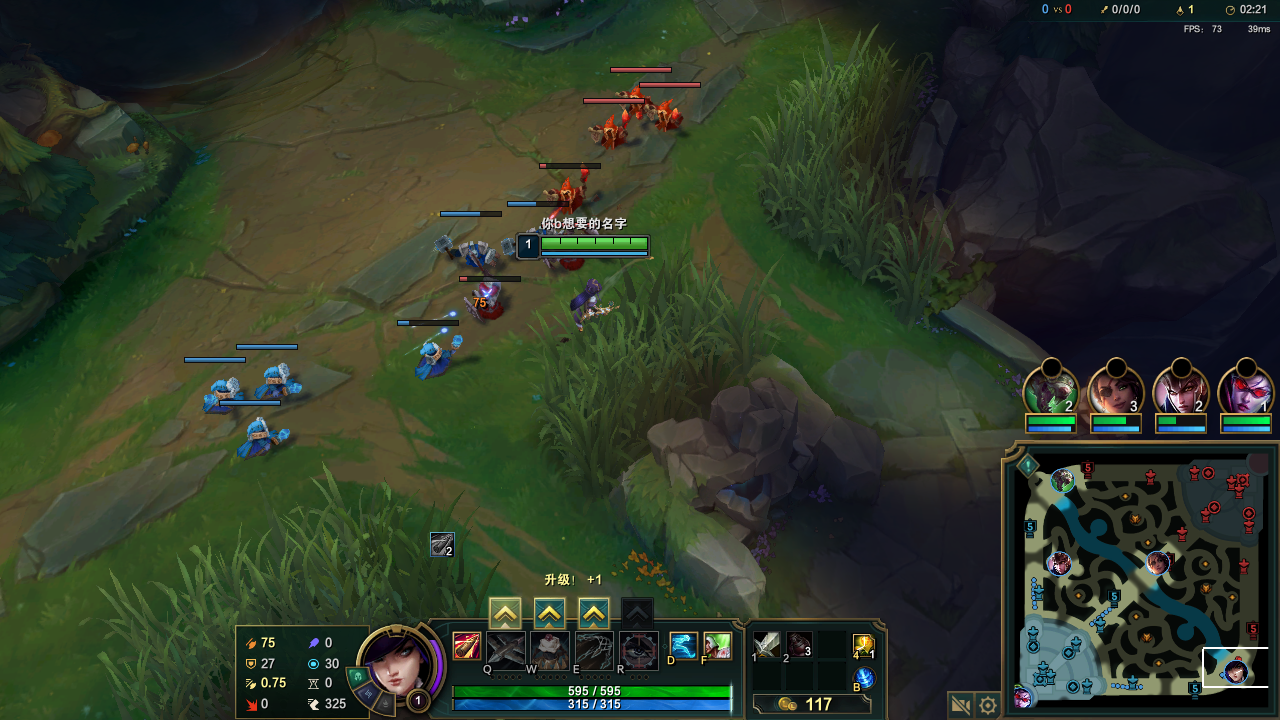DFXB: (468, 281, 508, 322), (590, 113, 628, 152), (649, 99, 691, 132), (613, 87, 653, 116), (552, 177, 586, 208)
Shenji: (581, 602, 607, 630), (536, 600, 561, 626)
Tuijianshengji: (490, 598, 516, 622)
WFXB: (416, 333, 465, 381), (433, 232, 496, 269), (252, 354, 298, 397), (240, 416, 289, 455), (202, 374, 239, 417)
Yita: (1187, 671, 1201, 700)
